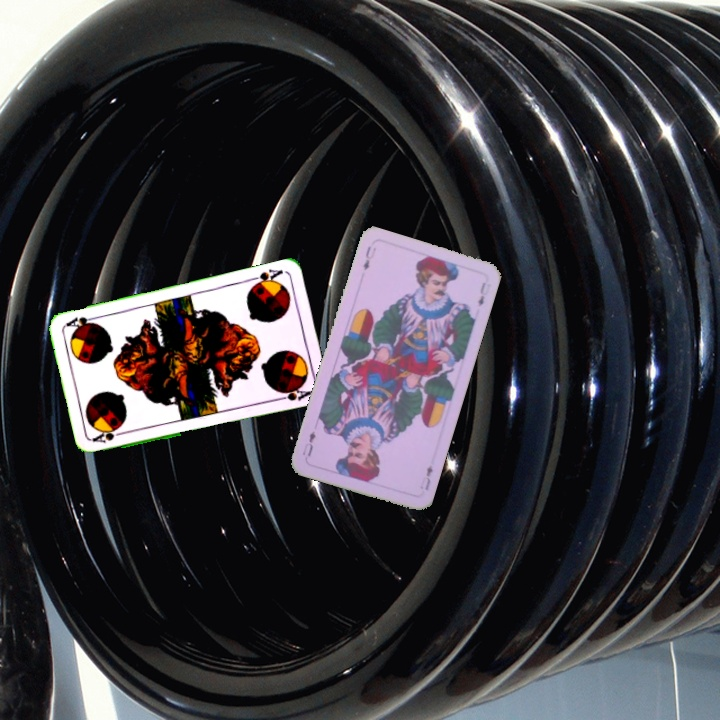EU: (359, 242, 379, 273), (416, 461, 435, 493)
SA: (245, 265, 286, 290), (89, 426, 130, 445)
